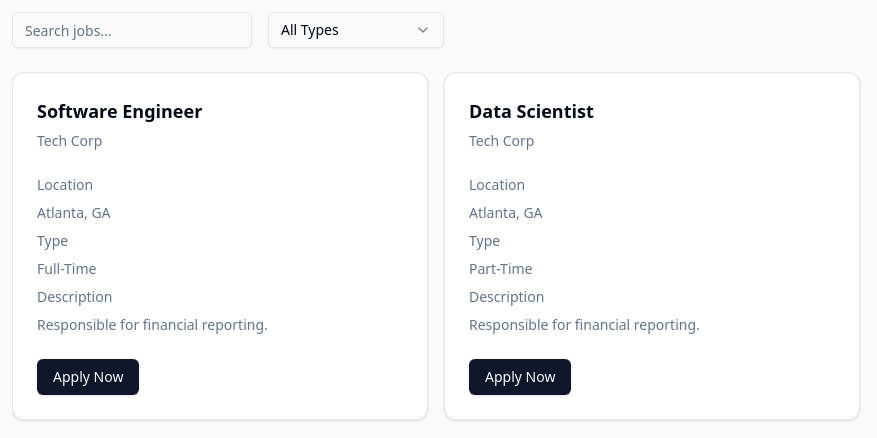
JobList › should show no jobs message when no filtered jobs are found
The width and height of the screenshot is (877, 438).
Click the dropdown. click: {"x": 356, "y": 30}
box: [268,12,444,48]
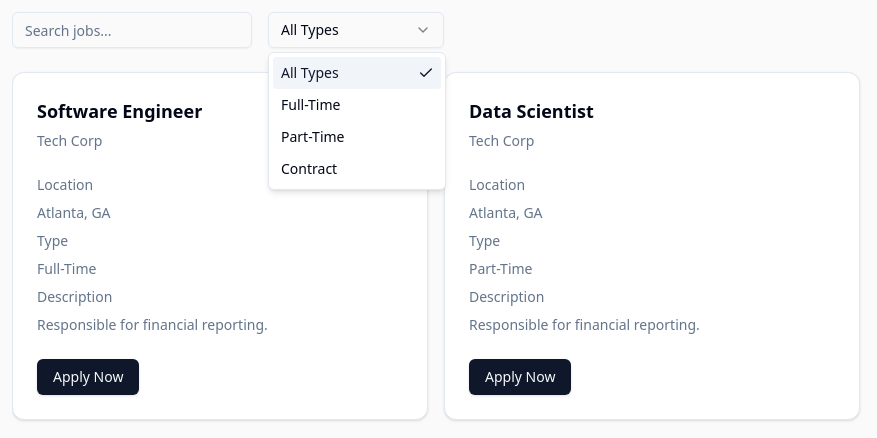
Click the option "Contract". click: {"x": 309, "y": 168}
box: [281,159,337,178]
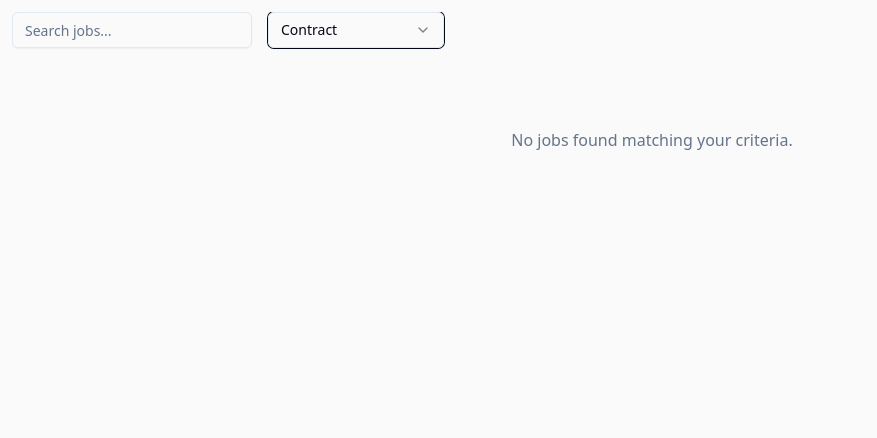
Expected: no list items with test id "job-card" are shown
Expected: the text "No jobs found matching your criteria." is shown, [511,129,793,151]
